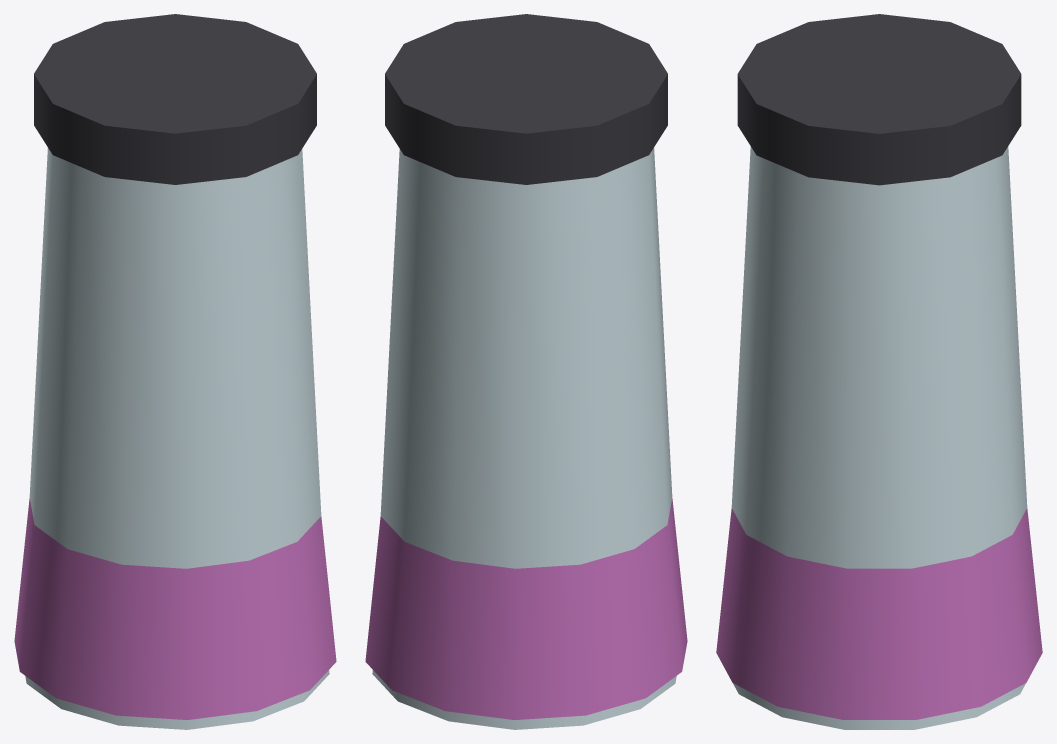
File: blender_jug.glb
The picture shows the model from 3 angles, left to right: view 1: azimuth 30°, elevation 25°; view 2: azimuth 150°, elevation 25°; view 3: azimuth 270°, elevation 25°; orthographic projection.
Visible parts, largest first — view 1: blender_jug; view 2: blender_jug; view 3: blender_jug.
Part boxes in pixels (box(x1,y1,x2,y2)): blender_jug: box(14, 14, 336, 729); blender_jug: box(365, 14, 687, 729); blender_jug: box(716, 14, 1042, 729).
Size of the model in its own units: 0.2242 by 0.46 by 0.23.
